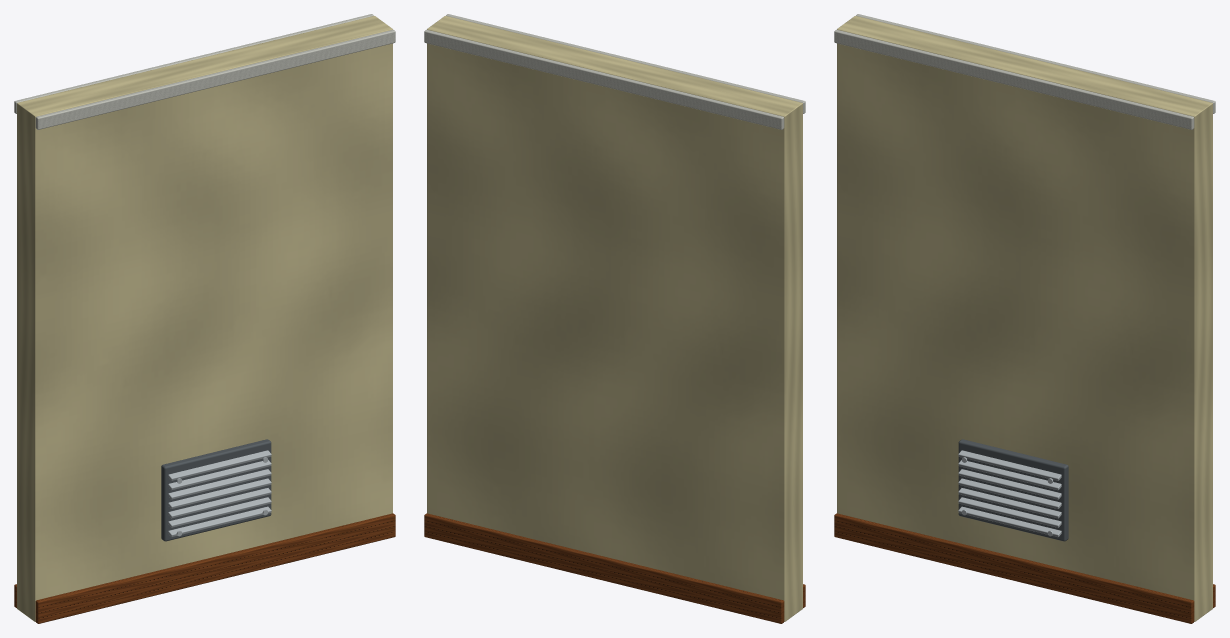
File: three-d-liminal-spaces-kit-liminal-spaces-kit-wall-vent-17b69007.glb
The picture shows the model from 3 angles, left to right: view 1: azimuth 30°, elevation 25°; view 2: azimuth 150°, elevation 25°; view 3: azimuth 330°, elevation 25°; orthographic projection.
Visible parts, largest first — view 1: wall-vent; view 2: wall-vent; view 3: wall-vent.
Boxes of the visible parts, x1=… form: wall-vent: x1=14, y1=14, x2=395, y2=623; wall-vent: x1=424, y1=14, x2=805, y2=623; wall-vent: x1=834, y1=14, x2=1215, y2=623.
Size of the model in its own units: 2 by 2.7 by 0.291.
5 materials, 3 textured.
